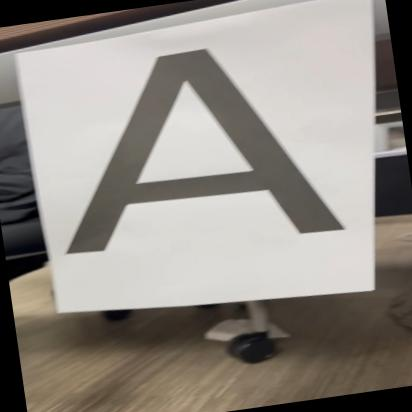seat: (42, 14, 360, 284)
